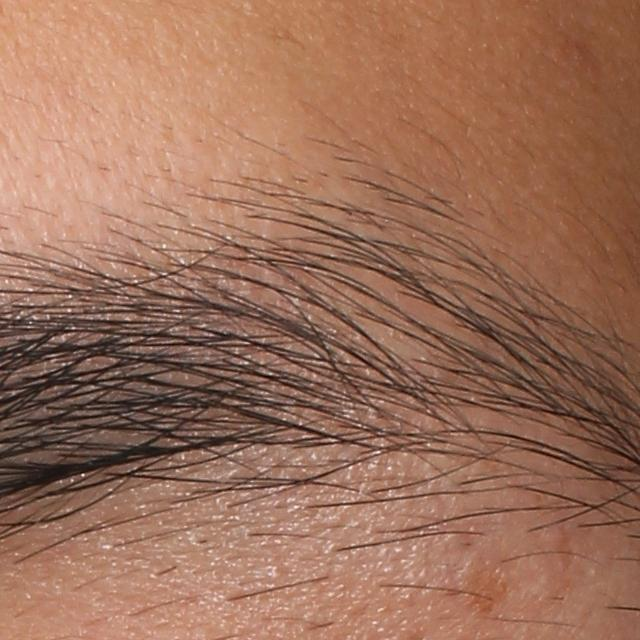melasma: (449, 561, 508, 622)
